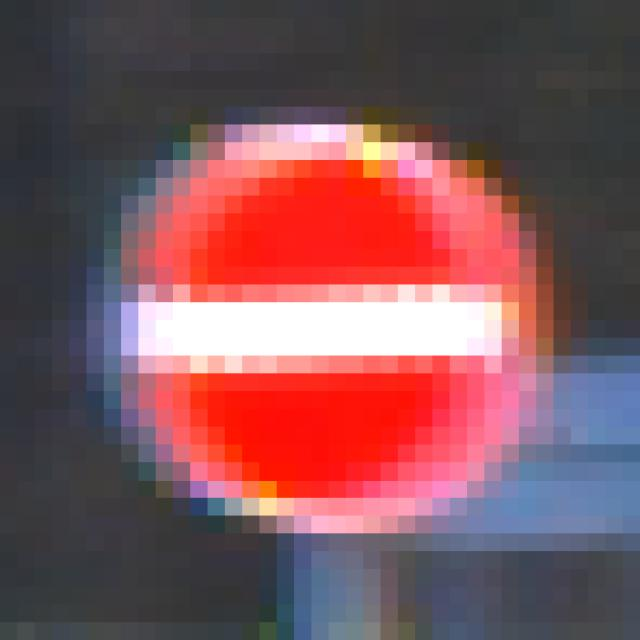No Entry: (88, 90, 555, 552)
